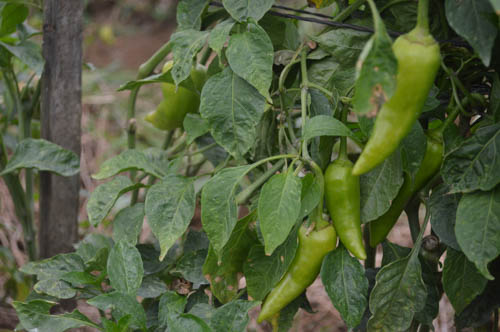ChiliPepper: (350, 38, 444, 175), (364, 138, 454, 245), (255, 224, 335, 326), (322, 160, 366, 258), (146, 59, 202, 133)
